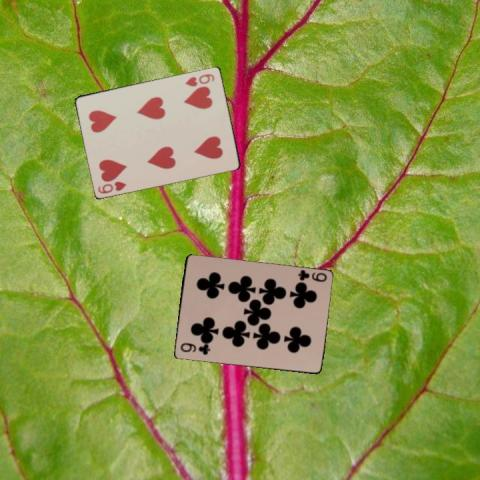6h: (95, 178, 128, 195), (182, 71, 216, 87)
9c: (178, 340, 212, 357), (295, 268, 328, 284)
